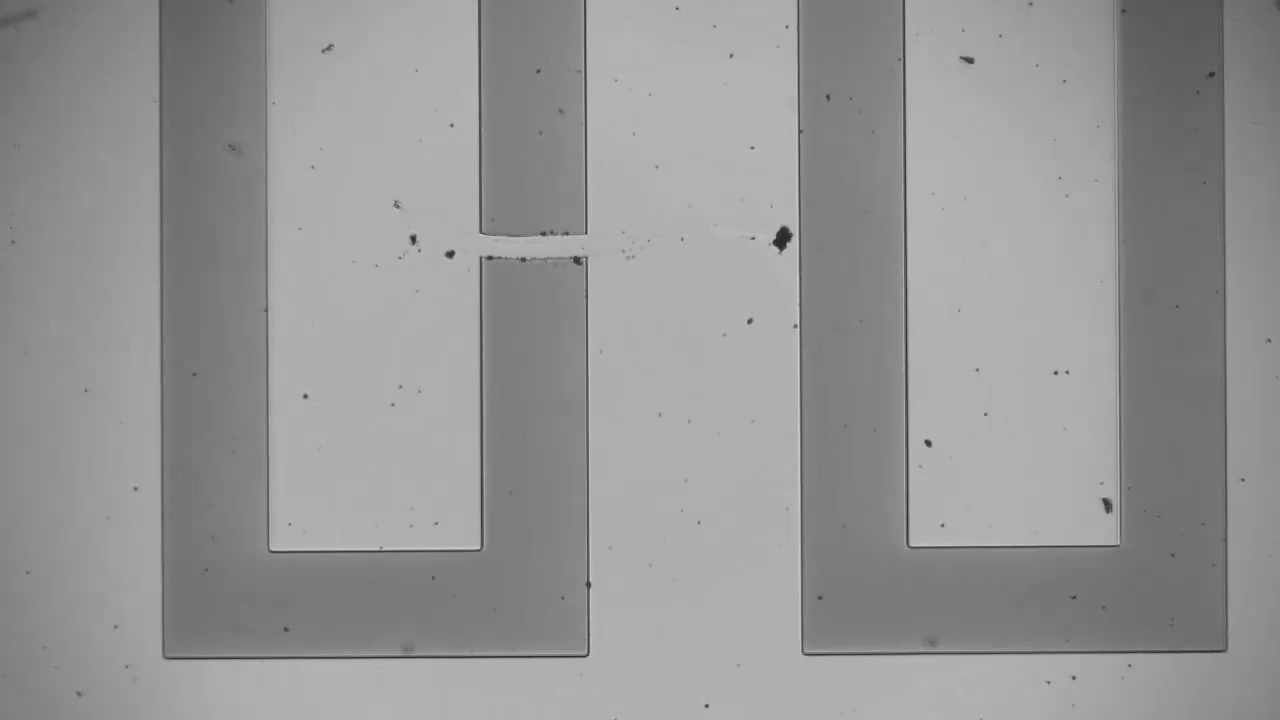Short_circuit: (454, 206, 625, 311)
